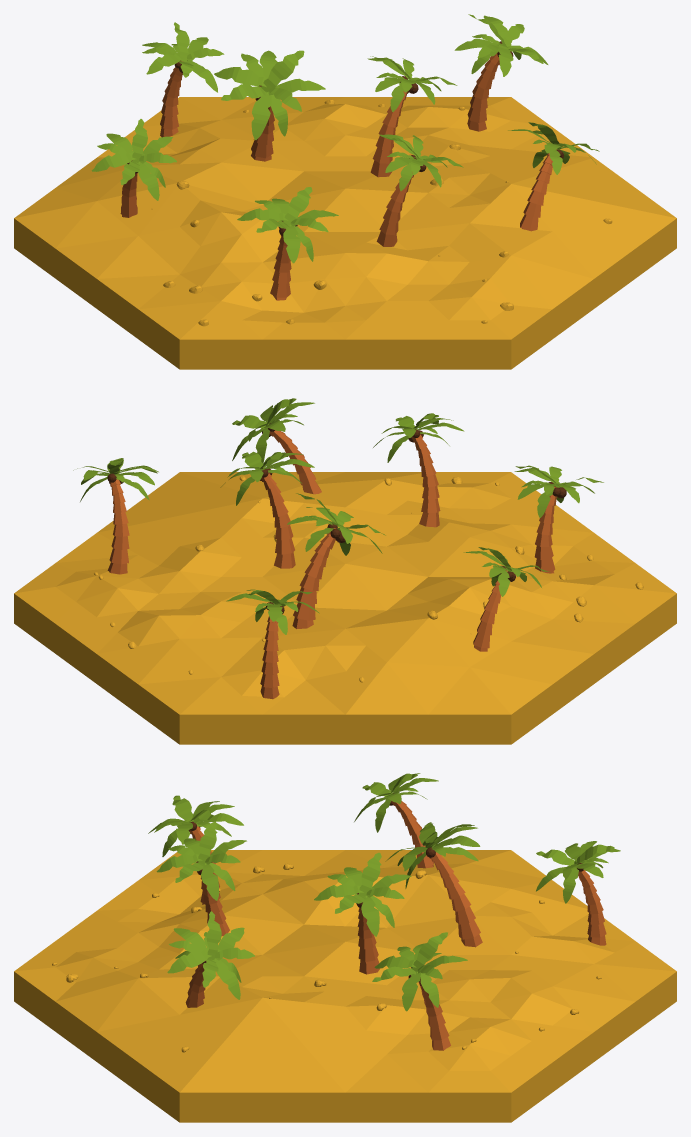
File: beach.glb
3 renders of one model, top to bottom at view 1: azimuth 30°, elevation 25°; view 2: azimuth 150°, elevation 25°; view 3: azimuth 270°, elevation 25°, orthographic.
Visible parts, largest first — view 1: land; view 2: land; view 3: land.
Boxes of the visible parts, x1,y1,x2,y2 form: land: (14, 14, 676, 369); land: (14, 398, 676, 744); land: (14, 773, 676, 1122).
Bounding box in the file's own units: 1.73 × 0.5635 × 2.
